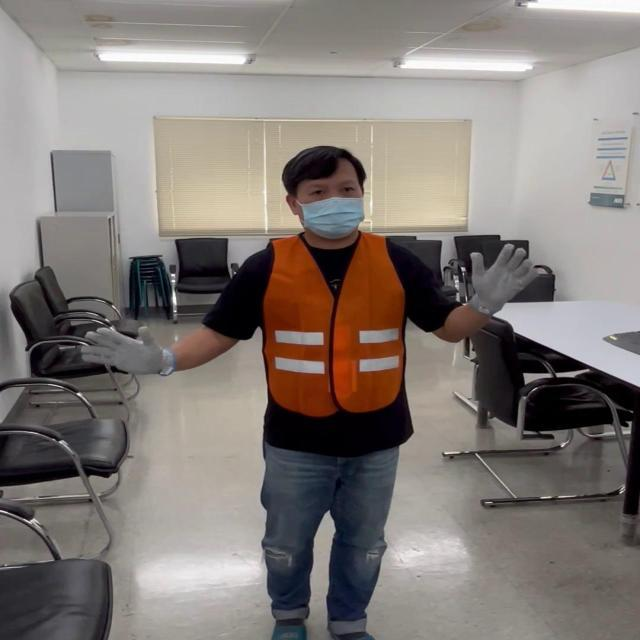gloved_hand: (458, 236, 535, 318), (93, 316, 176, 384)
